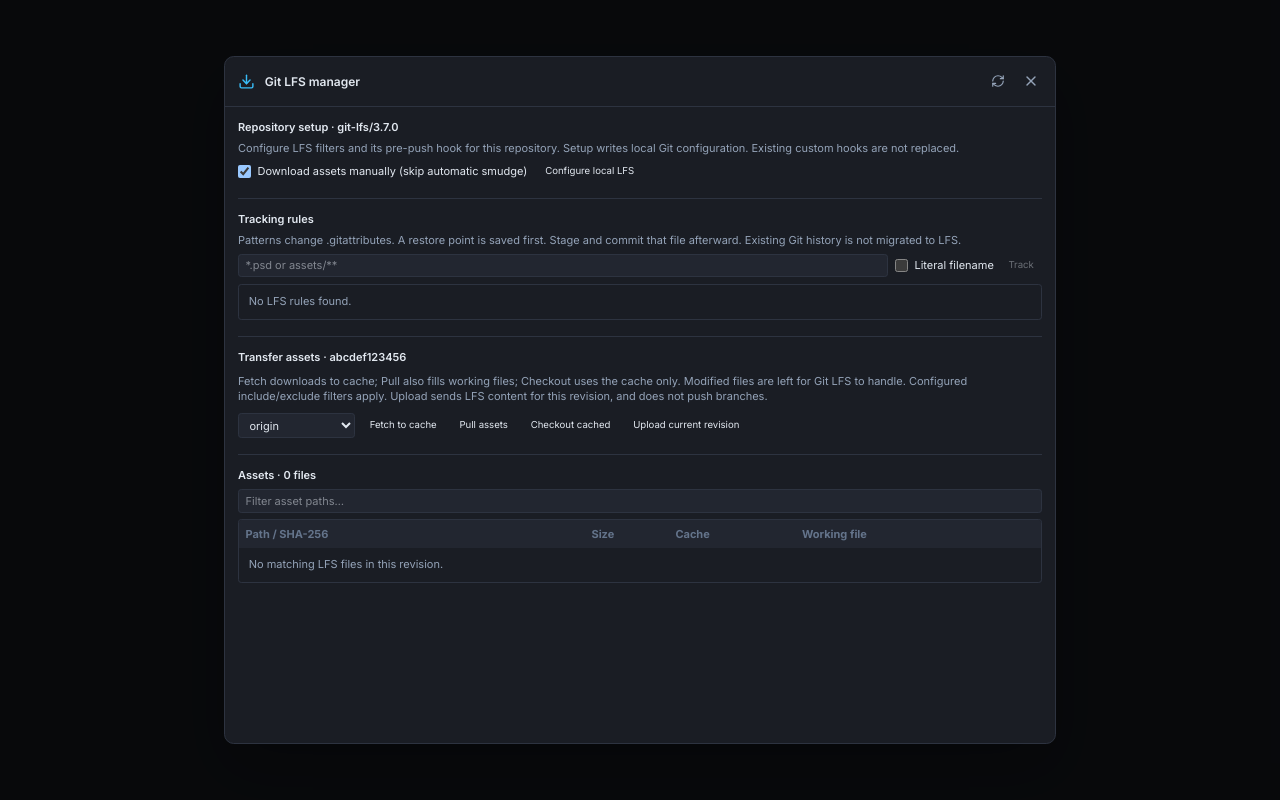
Test: Git LFS manager › does not track twice when the form is submitted during an operation
Type "*.psd" into the field named "LFS tracking pattern" at [563, 266], box top-left (238, 254), bottom-right (888, 277)
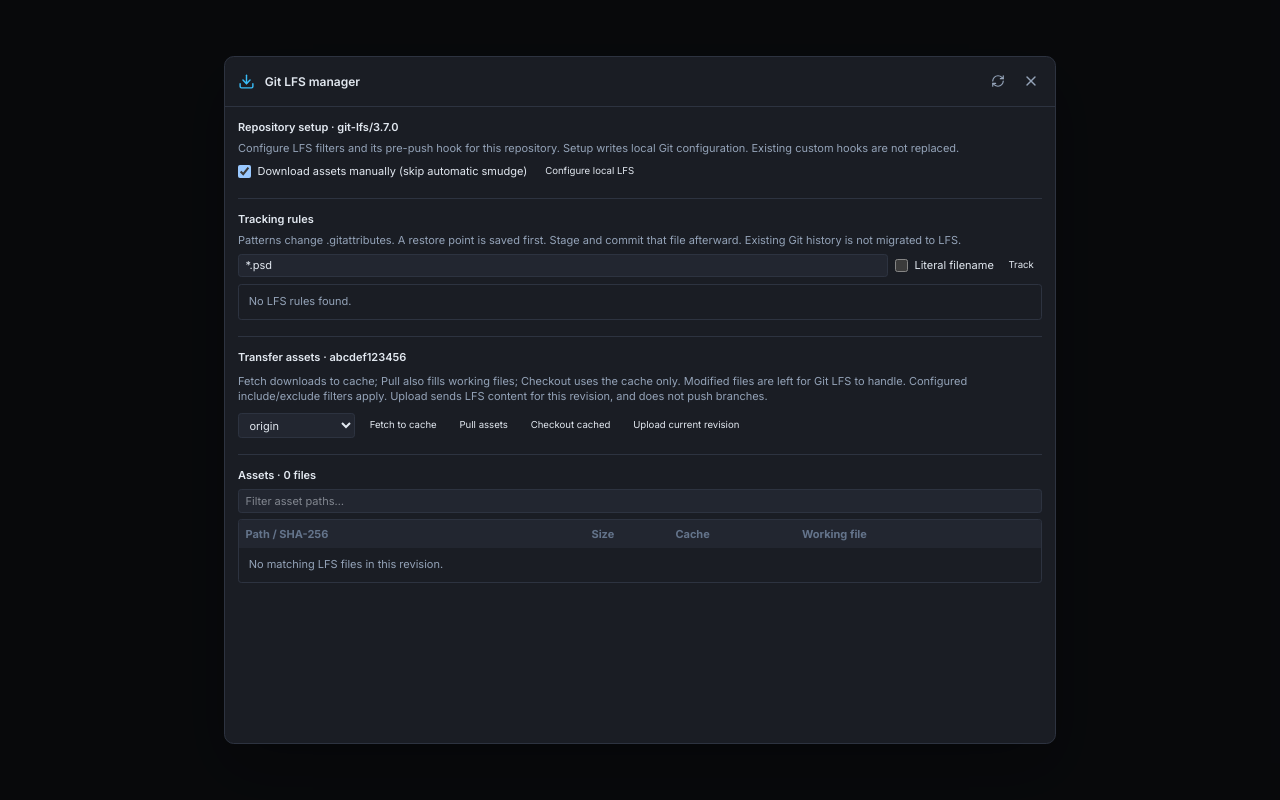
Submit the form named "LFS tracking pattern", box top-left (238, 254), bottom-right (1042, 277)
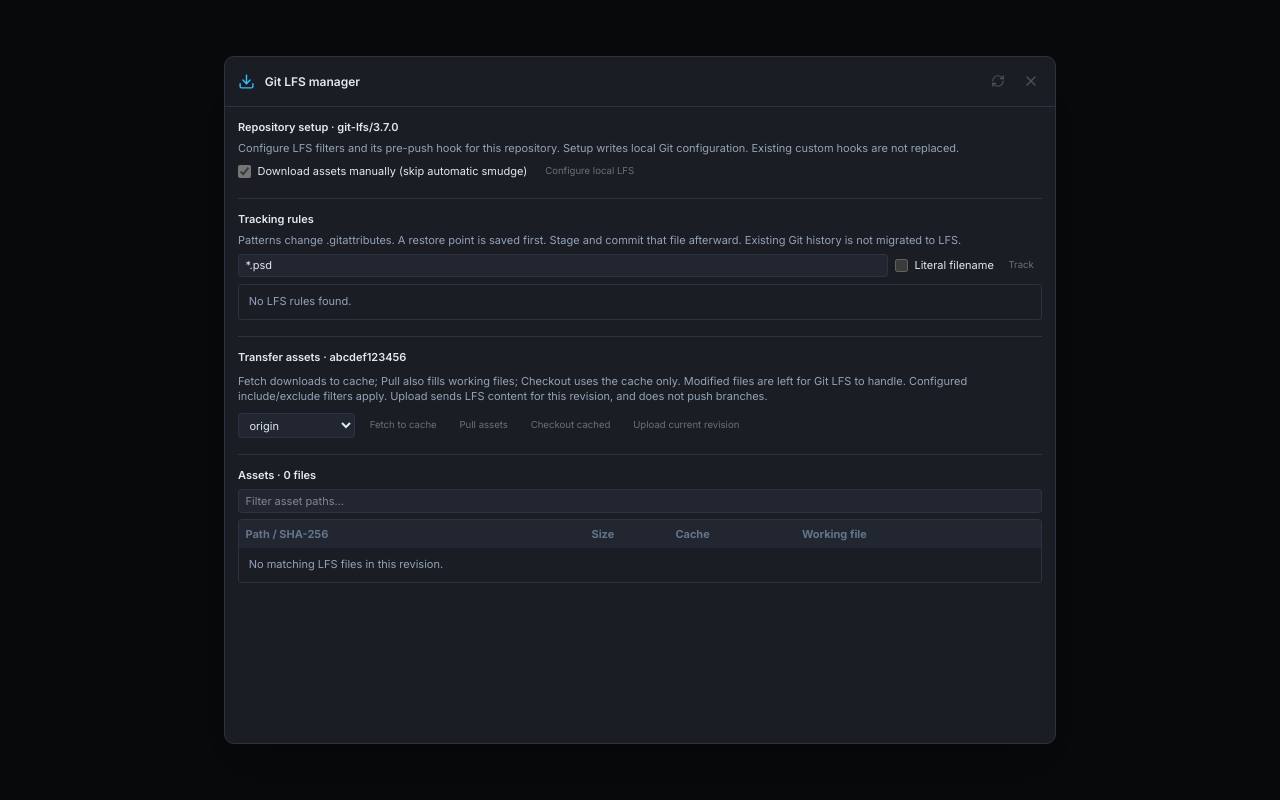
Submit the form named "LFS tracking pattern", box top-left (238, 254), bottom-right (1042, 277)
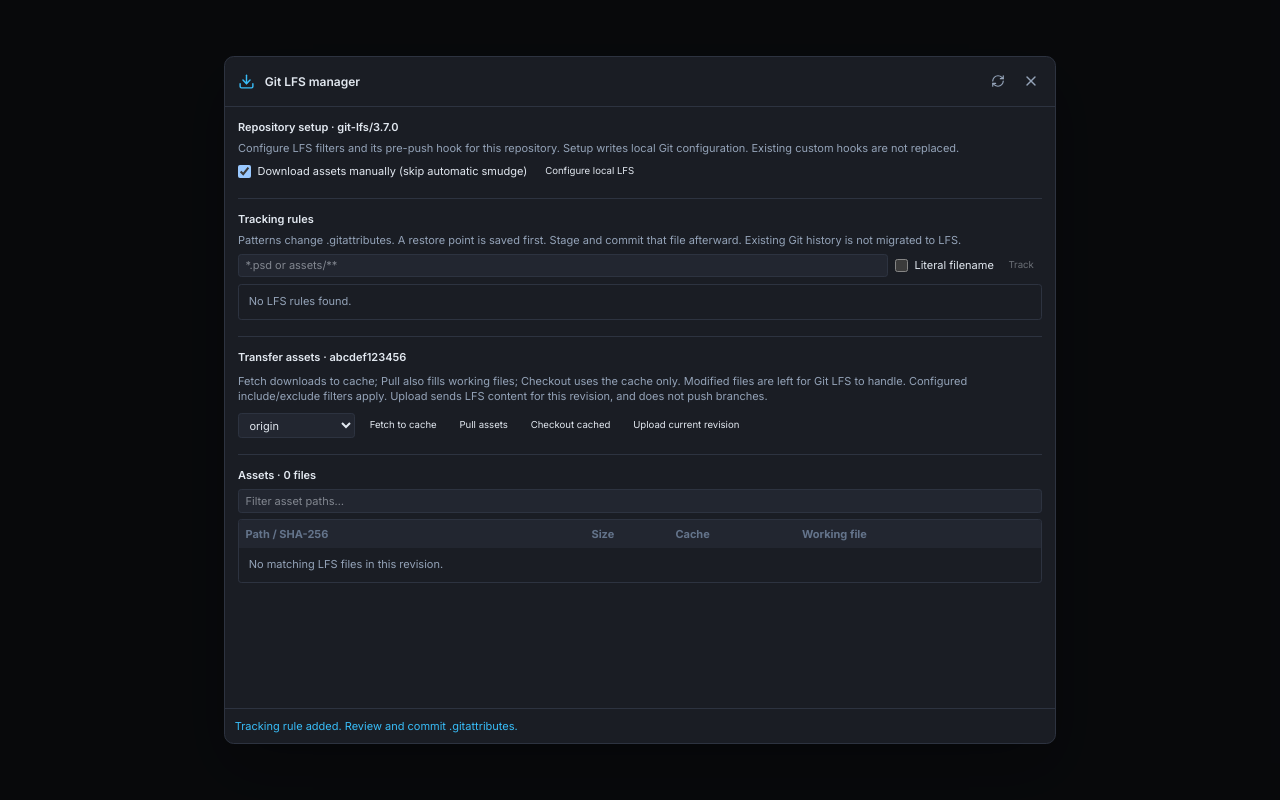
Result: the text "Tracking rule added. Review and commit .gitattributes." is shown at top-left (225, 708), bottom-right (1055, 743)
